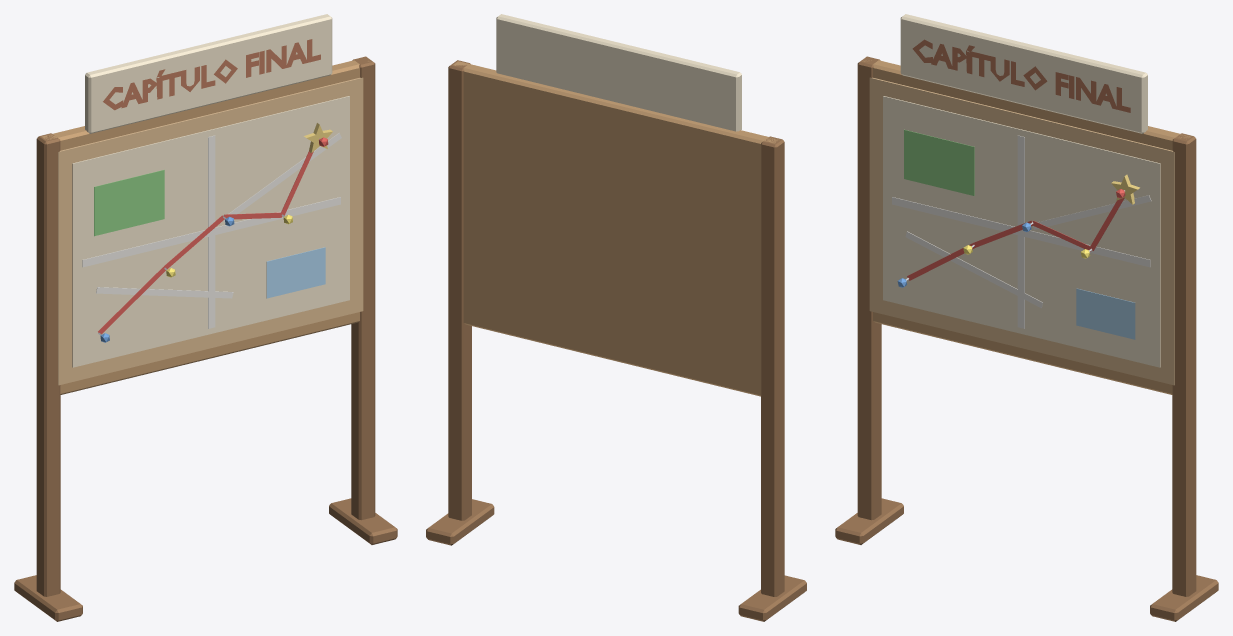
Rendered from prop_finalboard_map_01.glb.
The picture shows the model from 3 angles, left to right: view 1: azimuth 30°, elevation 25°; view 2: azimuth 150°, elevation 25°; view 3: azimuth 330°, elevation 25°; orthographic projection.
Visible parts, largest first — view 1: prop_finalboard_map_01_body; view 2: prop_finalboard_map_01_body; view 3: prop_finalboard_map_01_body.
Part boxes in pixels (x1,y1,x2,y2): prop_finalboard_map_01_body: (14,14,397,621); prop_finalboard_map_01_body: (426,14,806,621); prop_finalboard_map_01_body: (835,14,1218,621).
Bounding box in the file's own units: 1.46 × 2.13 × 0.32.
